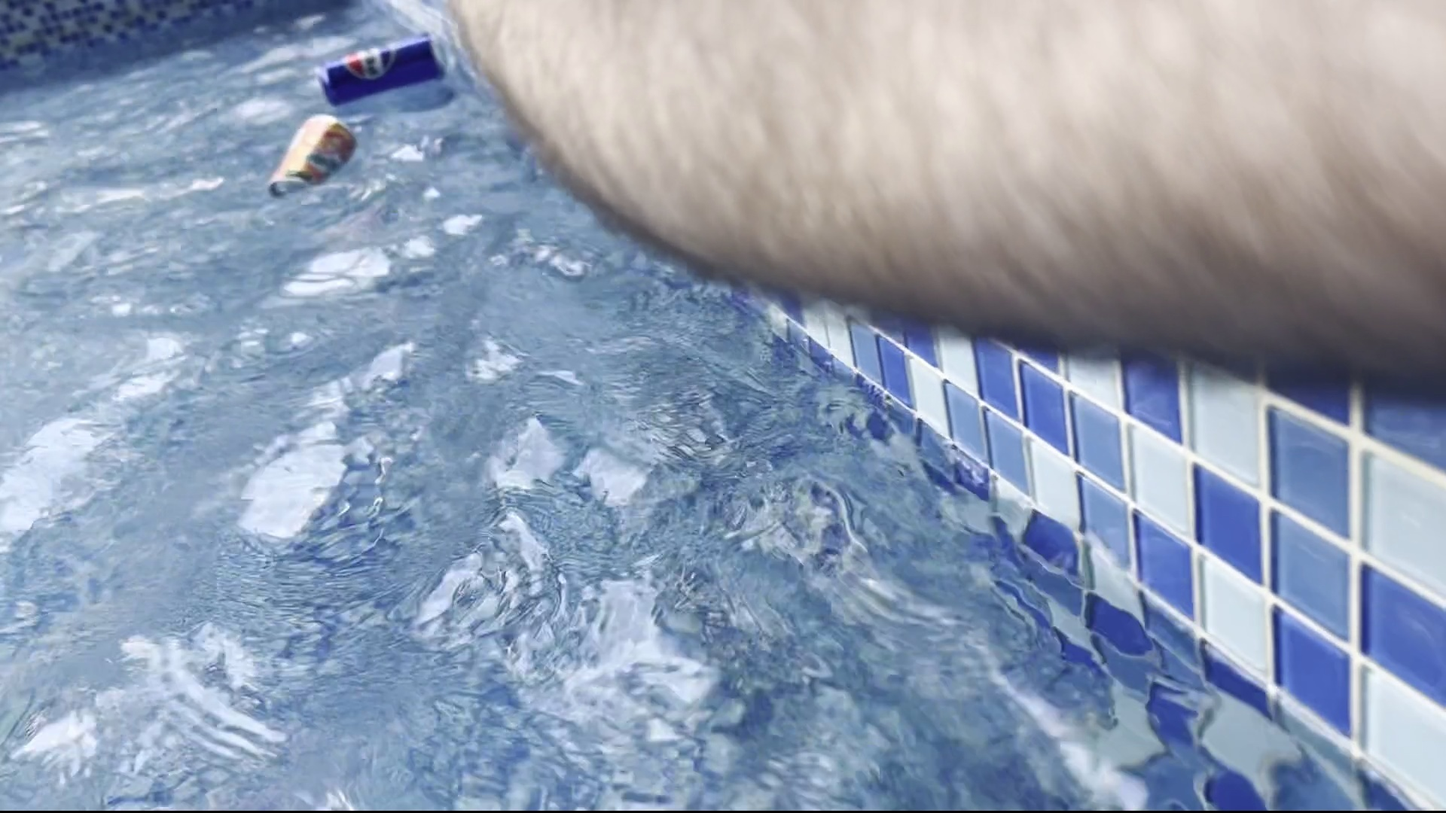debris: (309, 26, 456, 108), (262, 108, 363, 206)
